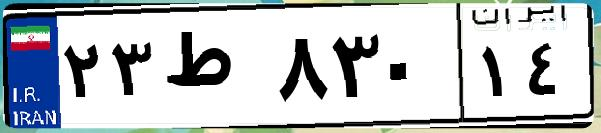0: (385, 28, 445, 110)
1: (475, 38, 525, 113)
2: (57, 26, 110, 100)
3: (330, 28, 385, 110), (110, 28, 158, 98)
4: (525, 38, 570, 115)
8: (270, 28, 330, 110)
ط: (158, 20, 270, 120)
